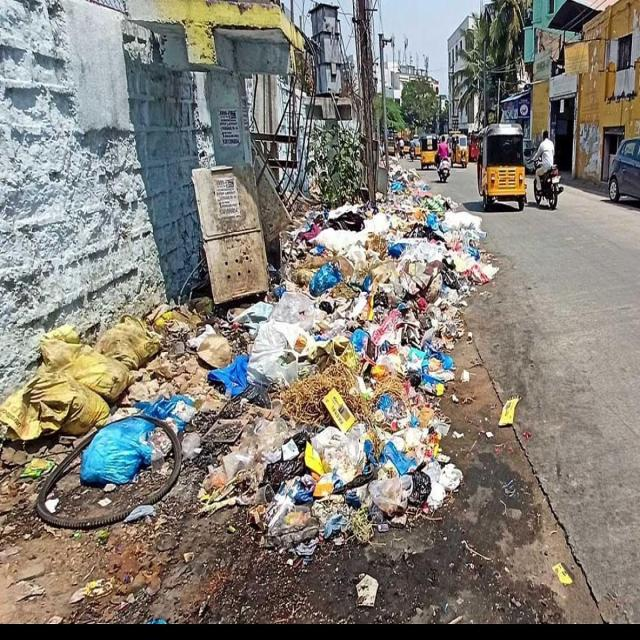garbage: (2, 173, 531, 579)
